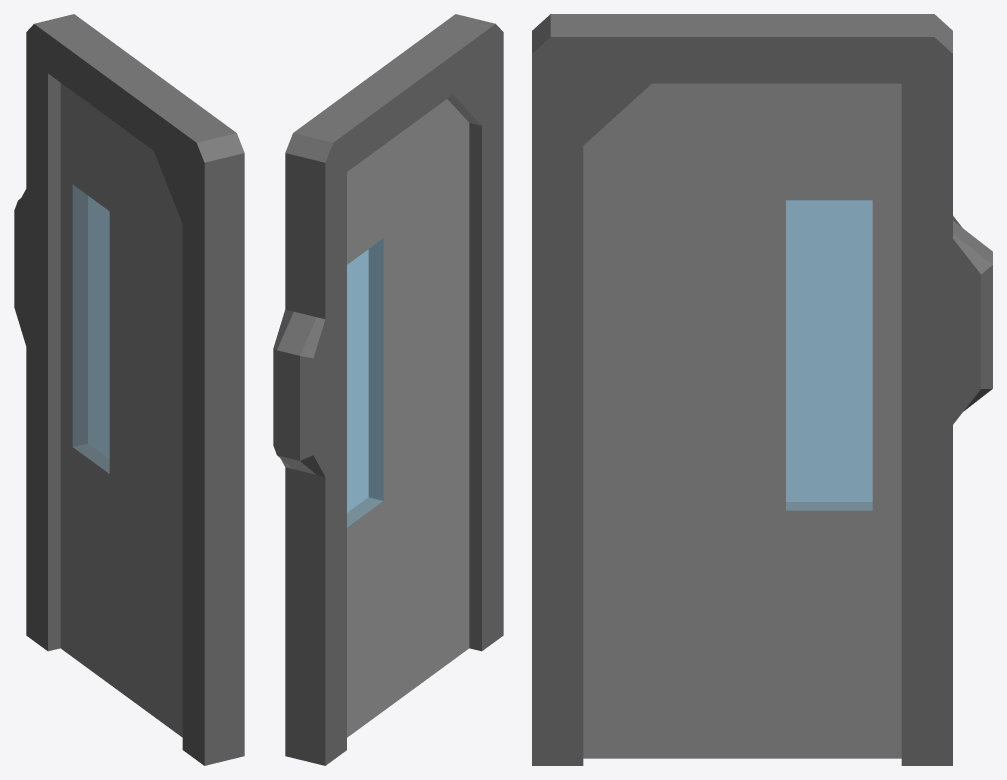
Rendered from door1.fbx.
3 renders of one model, left to right at view 1: azimuth 30°, elevation 25°; view 2: azimuth 150°, elevation 25°; view 3: azimuth 270°, elevation 25°, orthographic. The views are drawn at different scales.
Visible parts, largest first — view 1: DoorFrame1, Door1; view 2: DoorFrame1, Door1; view 3: Door1, DoorFrame1.
Part boxes in pixels (x1=…): DoorFrame1: x1=14, y1=14, x2=244, y2=765; Door1: x1=60, y1=83, x2=182, y2=737; DoorFrame1: x1=273, y1=14, x2=503, y2=765; Door1: x1=347, y1=99, x2=469, y2=737; Door1: x1=583, y1=83, x2=901, y2=758; DoorFrame1: x1=532, y1=14, x2=992, y2=765.
Bounding box in the file's own units: 16 × 235 × 135.
